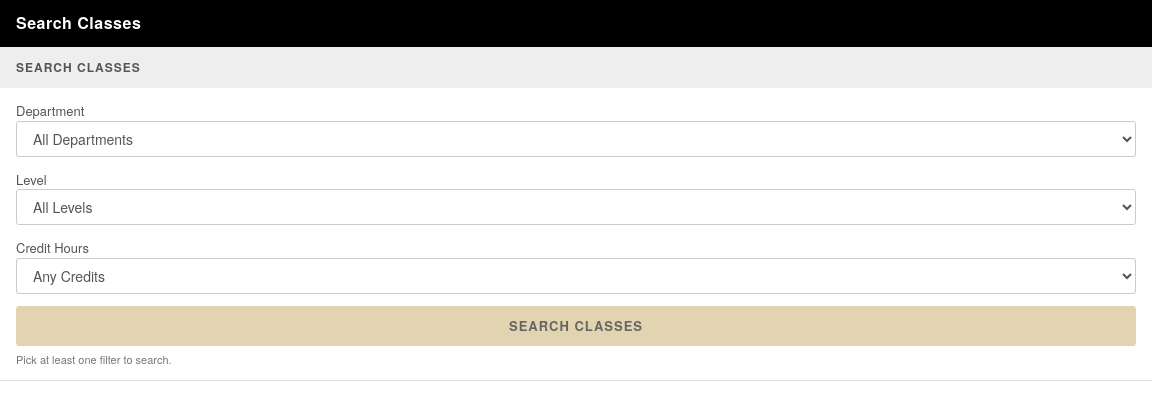
Test: FilterBar › enables SEARCH when only credits is chosen
Step 1. Select "3 Credits" in the dropdown with id "filter-credits" → x=576, y=276, box x1=16 y1=258 x2=1136 y2=294
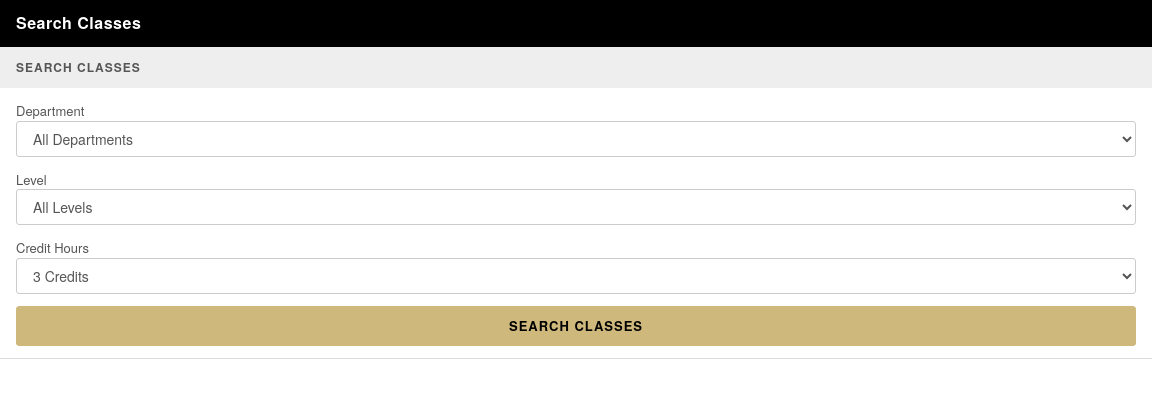
Expected: the button with test id "search-btn" is enabled, x1=16 y1=306 x2=1136 y2=346
